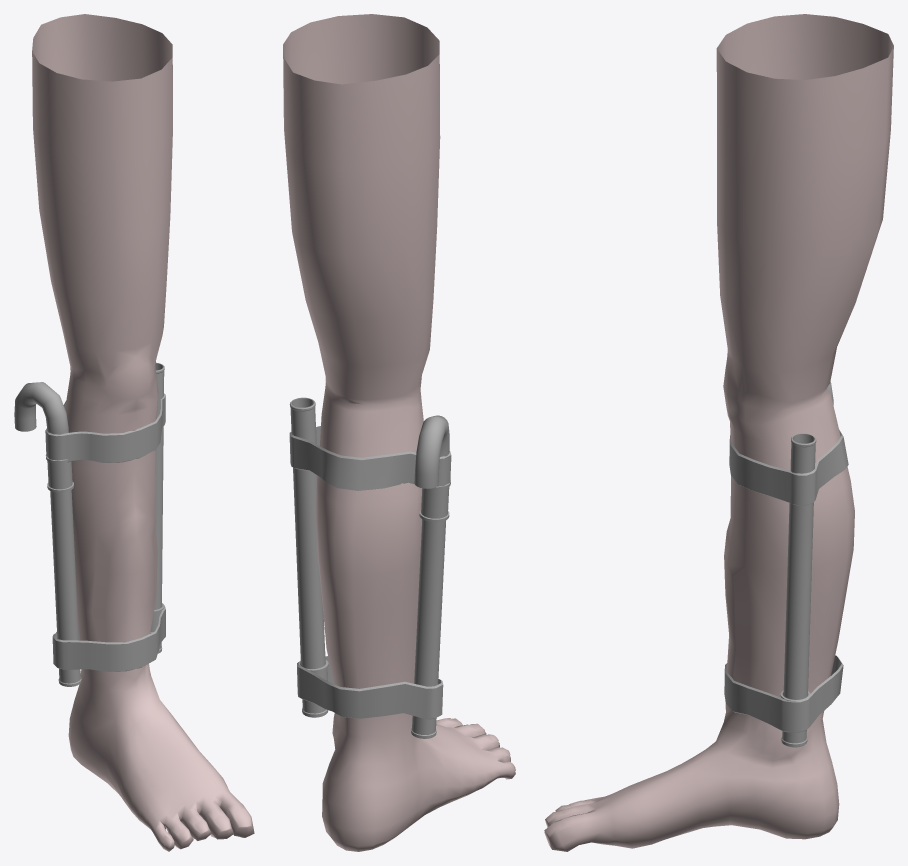
Rendered from FBX_Fracture_Leg_5.fbx.
3 views of the same model, side by side, from view 1: azimuth 30°, elevation 25°; view 2: azimuth 150°, elevation 25°; view 3: azimuth 270°, elevation 25° (orthographic). The views are drawn at different scales.
Visible parts, largest first — view 1: polySurface5, polySurface4, pCylinder5, pCylinder3, polySurface6; view 2: polySurface5, polySurface4, polySurface6, pCylinder3, pCylinder5; view 3: polySurface5, polySurface6, pCylinder5, pCylinder3.
Part boxes in pixels (x1,y1,x2,y2): polySurface5: (32,14,254,851); polySurface4: (14,382,81,686); pCylinder5: (45,393,165,462); pCylinder3: (52,603,165,671); polySurface6: (150,362,164,653); polySurface5: (283,14,515,851); polySurface4: (411,415,450,738); polySurface6: (289,397,328,717); pCylinder3: (297,656,443,719); pCylinder5: (289,426,451,490); polySurface5: (544,14,893,851); polySurface6: (780,433,816,747); pCylinder5: (729,429,848,505); pCylinder3: (724,655,843,732).
Bounding box in the file's own units: 1.65 × 8.14 × 3.25.
